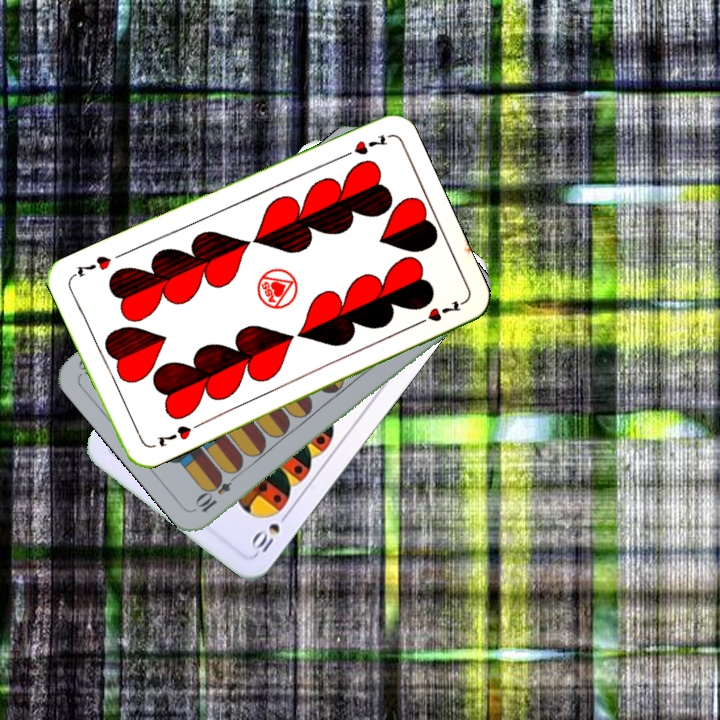E10: (192, 467, 242, 515)
H7: (335, 130, 390, 162), (153, 421, 194, 450)
S10: (247, 507, 293, 558)
